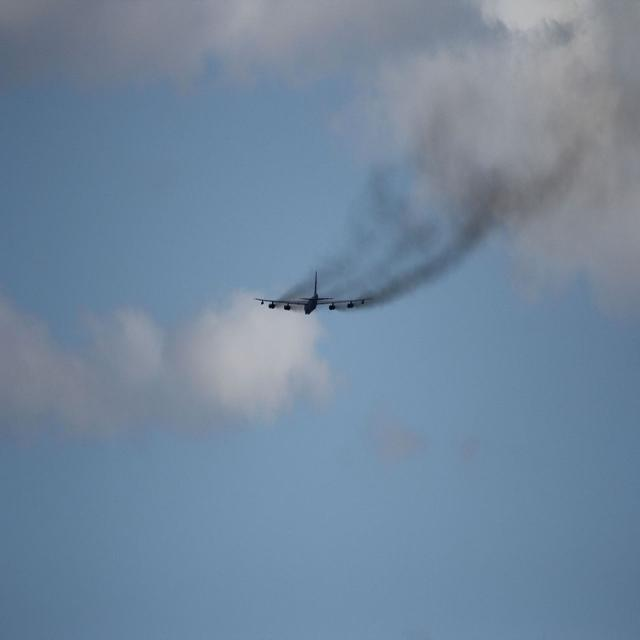MIL_Plane: (61, 79, 181, 123)
